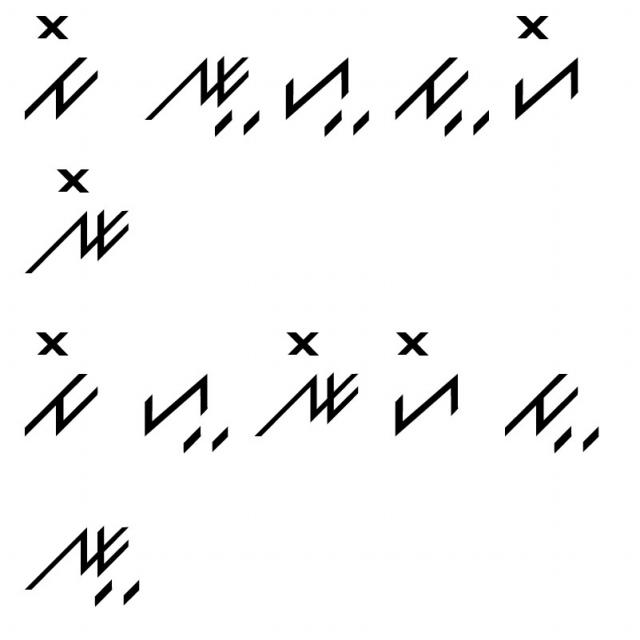hah: (124, 356, 237, 461), (272, 49, 372, 144)
ho: (386, 316, 467, 438), (504, 8, 585, 125)
mbah: (496, 360, 604, 465), (384, 53, 494, 147)
mbo: (10, 322, 106, 456), (12, 8, 103, 139)
ndah: (18, 508, 159, 620), (132, 37, 268, 143)
ndo: (23, 163, 139, 285), (247, 318, 363, 439)
